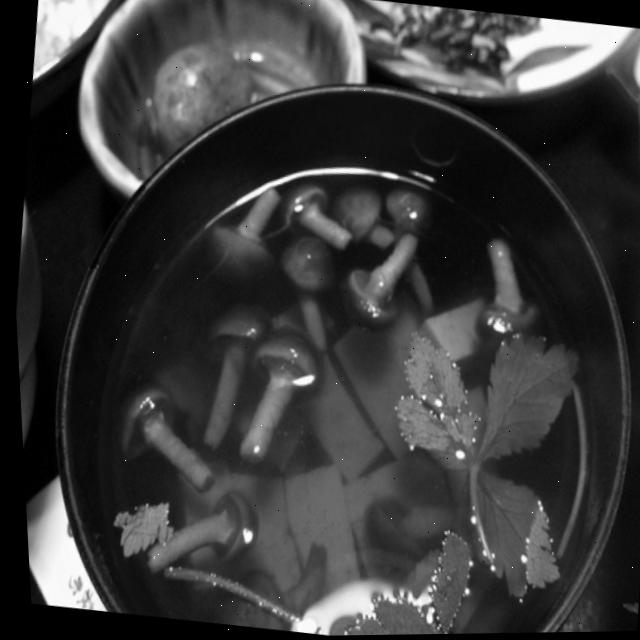汤锅炖物: (6, 24, 640, 640)
